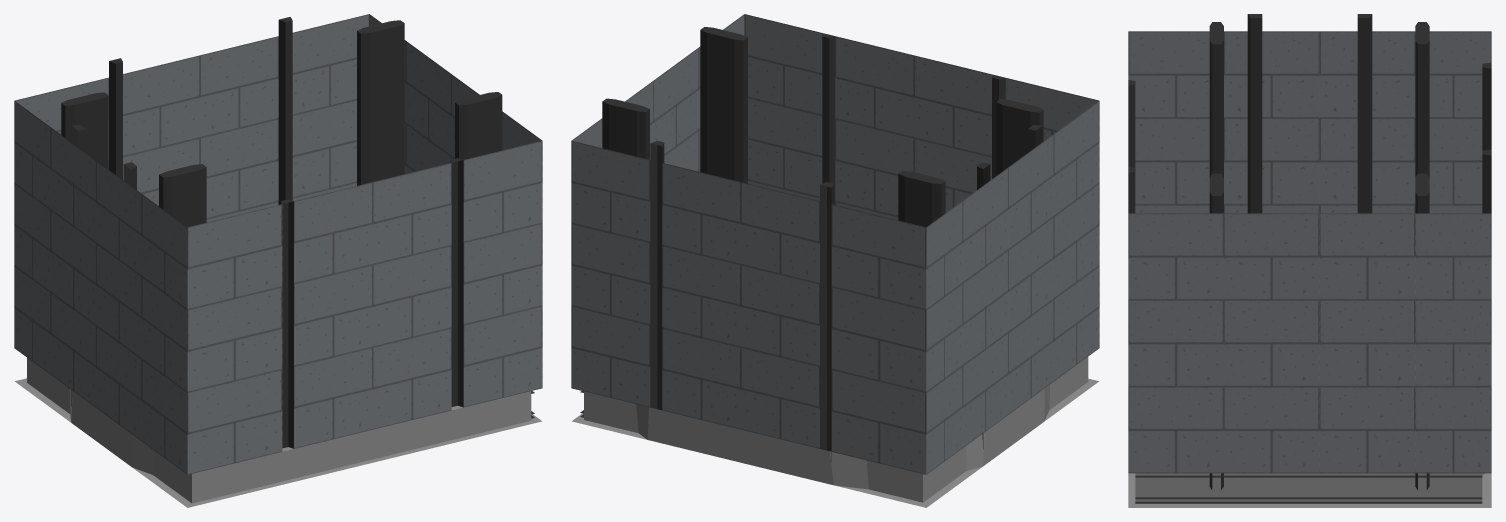
The model's file is SW_ENV_Elevator_Shaft_InterFloorLevel_FF.fbx.
3 views of the same model, side by side, from view 1: azimuth 30°, elevation 25°; view 2: azimuth 150°, elevation 25°; view 3: azimuth 270°, elevation 25° (orthographic). The views are drawn at different scales.
Visible parts, largest first — view 1: SW_ENV_Elevator_Shaft_InterFloorLevel_FF; view 2: SW_ENV_Elevator_Shaft_InterFloorLevel_FF; view 3: SW_ENV_Elevator_Shaft_InterFloorLevel_FF.
Part boxes in pixels (bbox=[...]): SW_ENV_Elevator_Shaft_InterFloorLevel_FF: bbox=[14, 14, 542, 507]; SW_ENV_Elevator_Shaft_InterFloorLevel_FF: bbox=[571, 14, 1099, 507]; SW_ENV_Elevator_Shaft_InterFloorLevel_FF: bbox=[1128, 14, 1491, 507].
Size of the model in its own units: 450 by 360 by 380.
